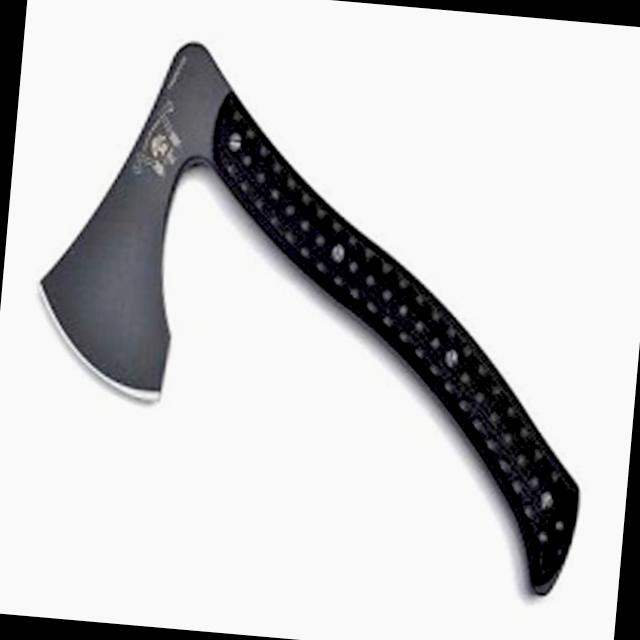ax: (0, 15, 633, 617)
